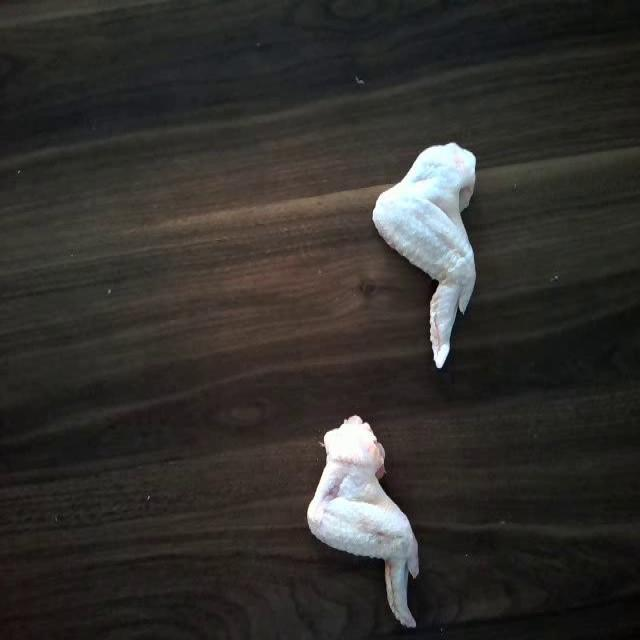wing: (374, 136, 486, 366), (305, 410, 423, 622)
